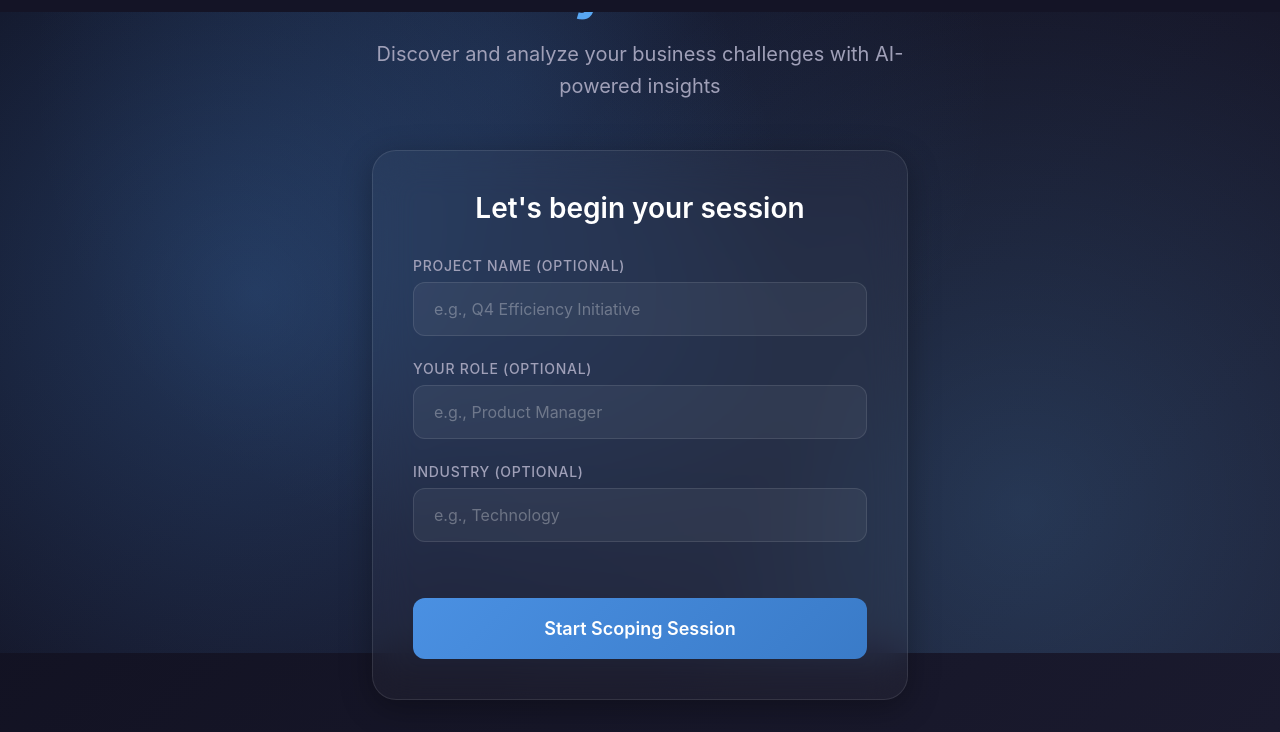
App › should show loading state when starting session
The width and height of the screenshot is (1280, 732).
(page scrolled)
Click the button "Start Scoping Session" at [640, 628], box [413,598,867,659]
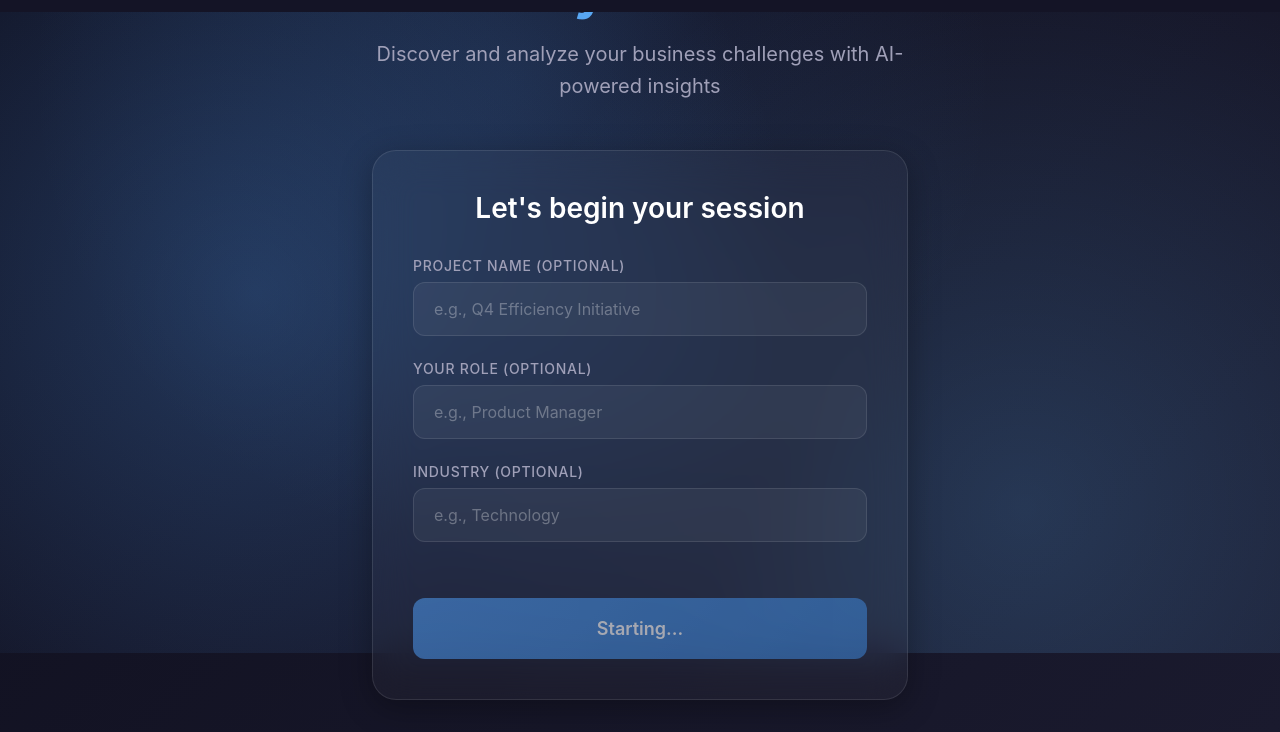
Expected: the button "Starting..." is disabled, [413,598,867,659]
